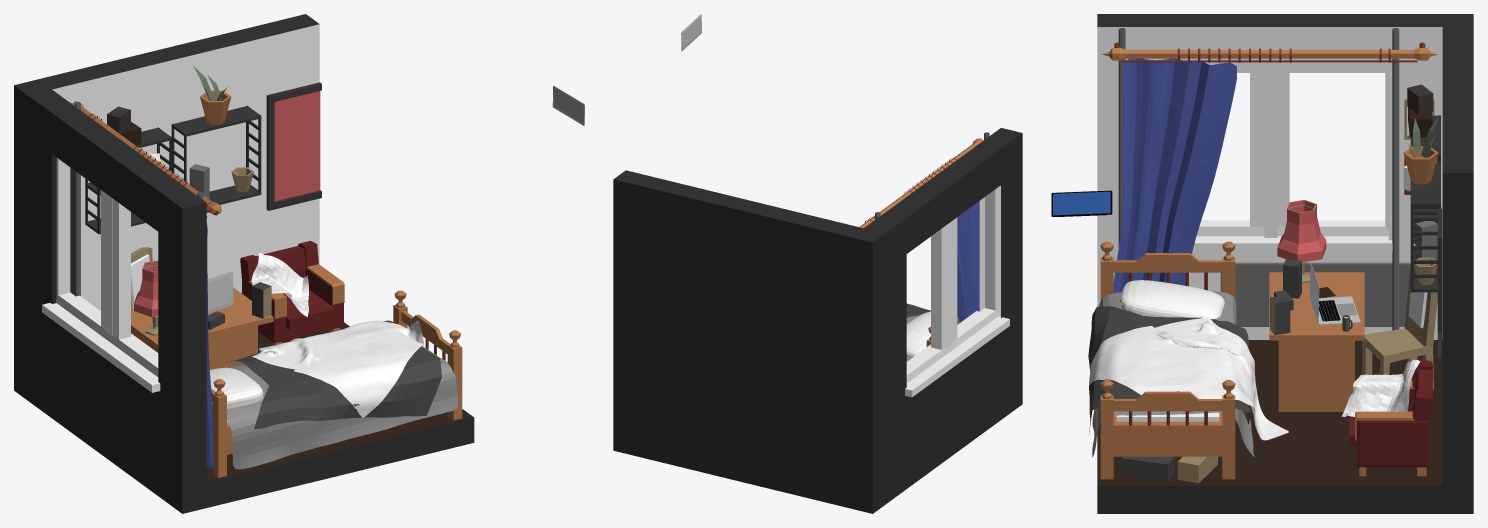
File: isometric_room_fin_3.glb
The picture shows the model from 3 angles, left to right: view 1: azimuth 30°, elevation 25°; view 2: azimuth 150°, elevation 25°; view 3: azimuth 270°, elevation 25°; orthographic projection. The views are drawn at different scales.
Parts seen in each view (by area): view 1: Cube_2, Cube_0, Plane.007_0, Cube.023_0, Cube.011_0, Cube.007_0, Cube.037_1, Cube.021_0, Cube.001_0, Cube_1, Cube.010_0, Cube.037_0 (+17 smaller); view 2: Cube_2, Cube.011_0, Cylinder.006_0, Cube.010_0, Cube.012_0, Cube.008_0, Cube_0, Cylinder.004_0; view 3: Cube_2, Cube_0, Cylinder.006_0, Cube_1, Plane.007_0, Cube.001_0, Cube.011_0, Cube.016_0, Cube.021_0, Cube.003_0, Cube.009_0, Cube.023_0 (+31 smaller).
Boxes of the visible parts, x1,y1,x2,y2 form: Cube_2: (14,14,474,513); Cube_0: (52,24,319,310); Plane.007_0: (252,320,424,417); Cube.023_0: (226,320,441,429); Cube.011_0: (56,158,158,376); Cube.007_0: (227,346,458,469); Cube.037_1: (274,91,320,201); Cube.021_0: (240,241,343,343); Cube.001_0: (131,287,273,369); Cube_1: (206,322,473,482); Cube.010_0: (42,295,160,392); Cube.037_0: (266,82,321,210); Cube_2: (613,128,1022,513); Cube.011_0: (906,185,1000,383); Cylinder.006_0: (957,201,979,324); Cube.010_0: (905,311,1009,397); Cube.012_0: (906,311,930,356); Cube.008_0: (946,221,951,347); Cube_0: (979,197,1000,316); Cylinder.004_0: (859,138,983,228); Cube_2: (1097,14,1473,513); Cube_0: (1097,27,1442,339); Cylinder.006_0: (1113,58,1236,293); Cube_1: (1097,340,1442,485); Plane.007_0: (1089,318,1288,440); Cube.001_0: (1269,272,1364,411); Cube.011_0: (1196,73,1388,236); Cube.016_0: (1220,262,1410,326); Cube.021_0: (1349,359,1432,467); Cube.003_0: (1113,413,1222,456); Cube.009_0: (1113,253,1222,411); Cube.023_0: (1088,306,1250,435).
Size of the model in its own units: 2.91 by 2.37 by 2.45.
